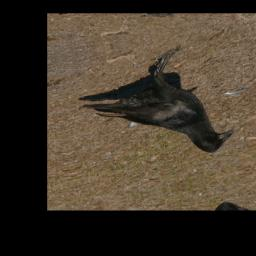Crow: (73, 39, 235, 181)
